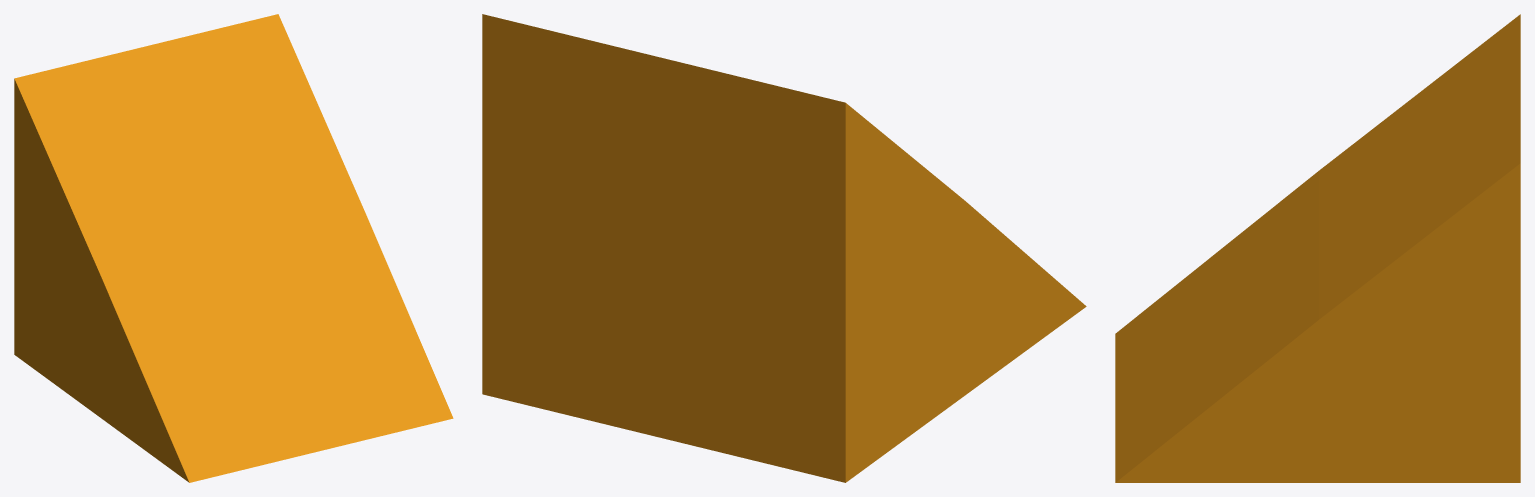
The model's file is Triangle Color fix.fbx.
3 views of the same model, side by side, from view 1: azimuth 30°, elevation 25°; view 2: azimuth 150°, elevation 25°; view 3: azimuth 270°, elevation 25° (orthographic). The views are drawn at different scales.
Parts seen in each view (by area): view 1: Toy triangle; view 2: Toy triangle; view 3: Toy triangle.
Part boxes in pixels (bbox=[...]): Toy triangle: bbox=[14, 14, 453, 482]; Toy triangle: bbox=[482, 14, 1086, 482]; Toy triangle: bbox=[1115, 14, 1520, 482].
Bounding box in the file's own units: 200 × 200 × 230.
